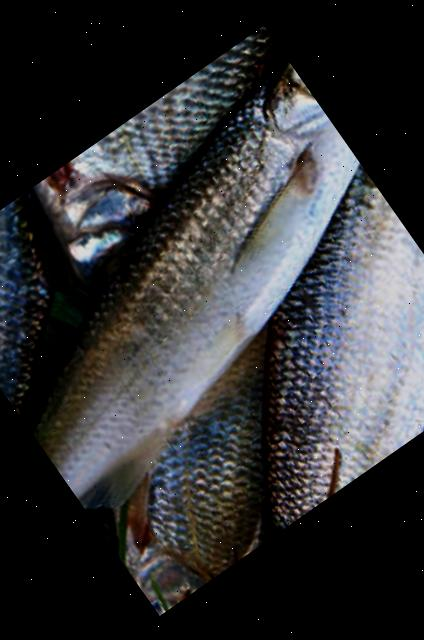Healthy Fish: (31, 57, 361, 526)
